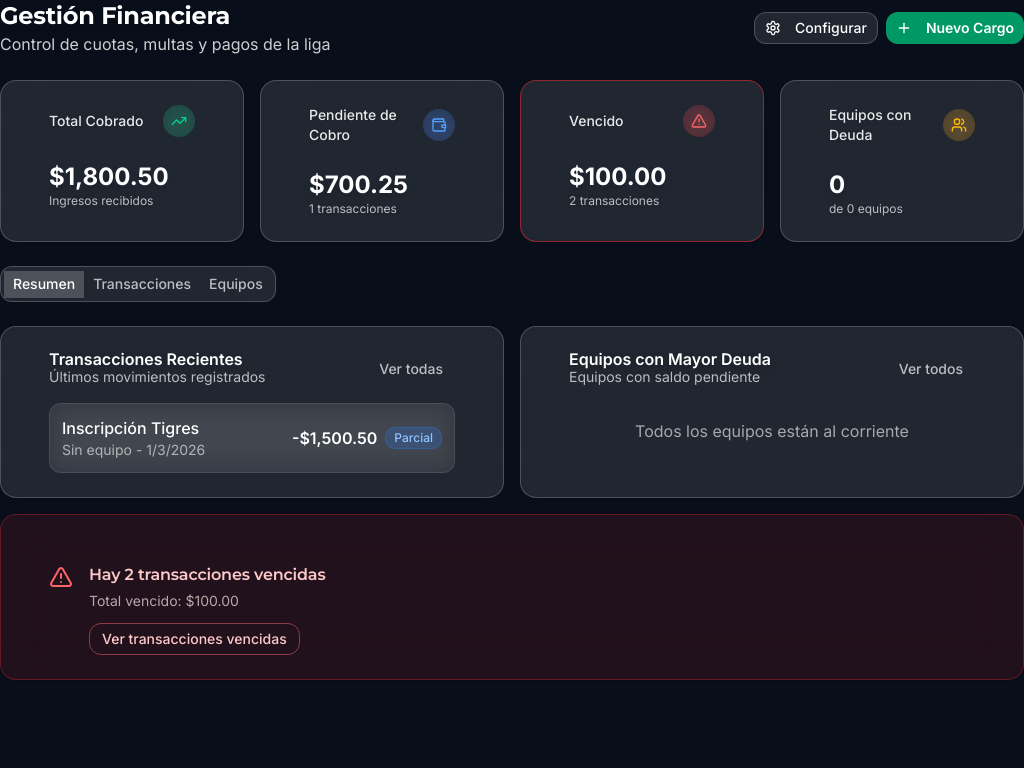
Test: Finance parity: payment dialog › never overpays: an amount above the pending balance is capped to it
Click the tab "Transacciones".
click(142, 284)  # box [84,270,200,298]
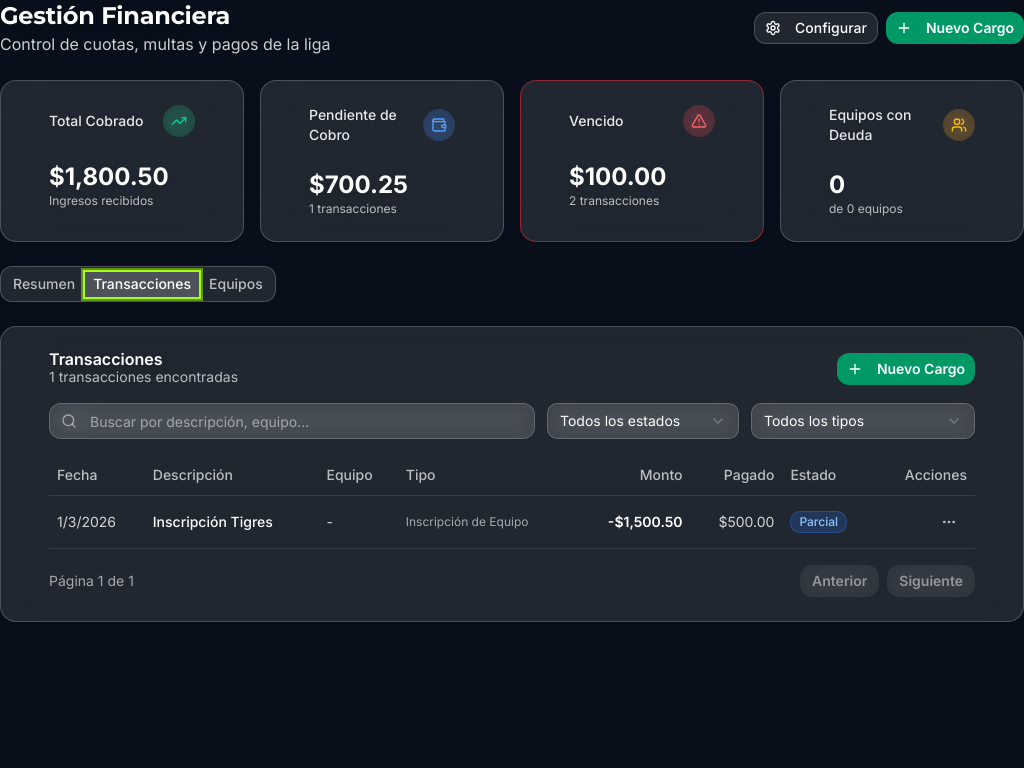
Click the button named "Acciones de Inscripción Tigres".
click(949, 522)  # box [931,504,967,540]
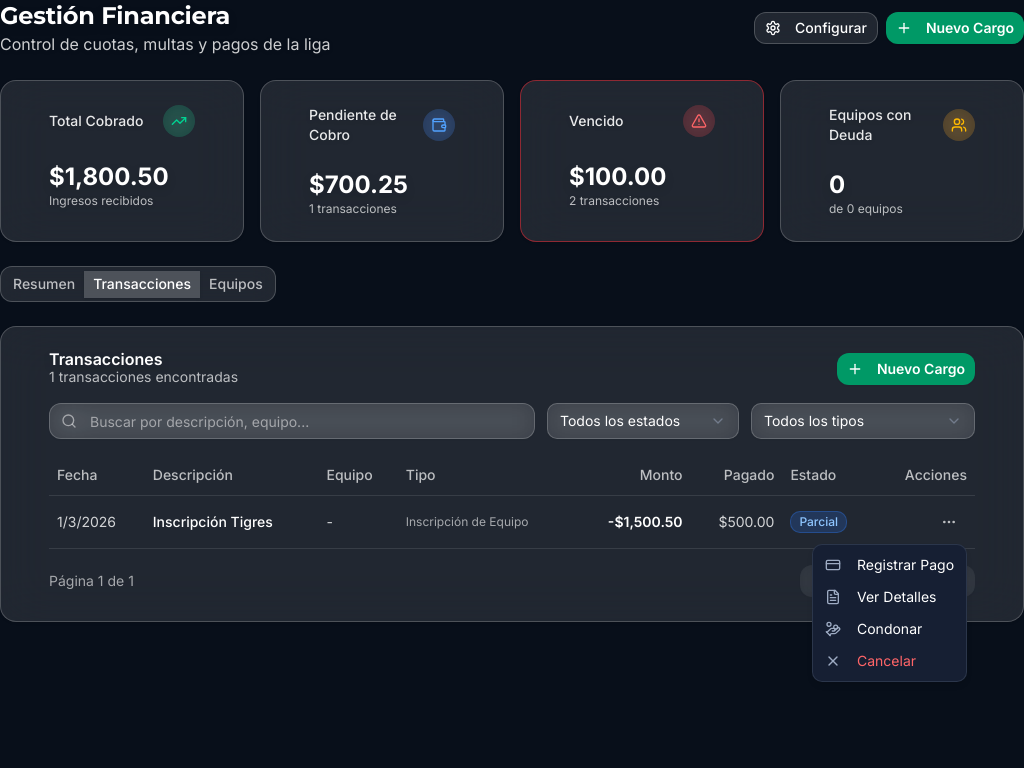
Click the menu item "Registrar Pago".
click(890, 564)  # box [825,556,954,573]
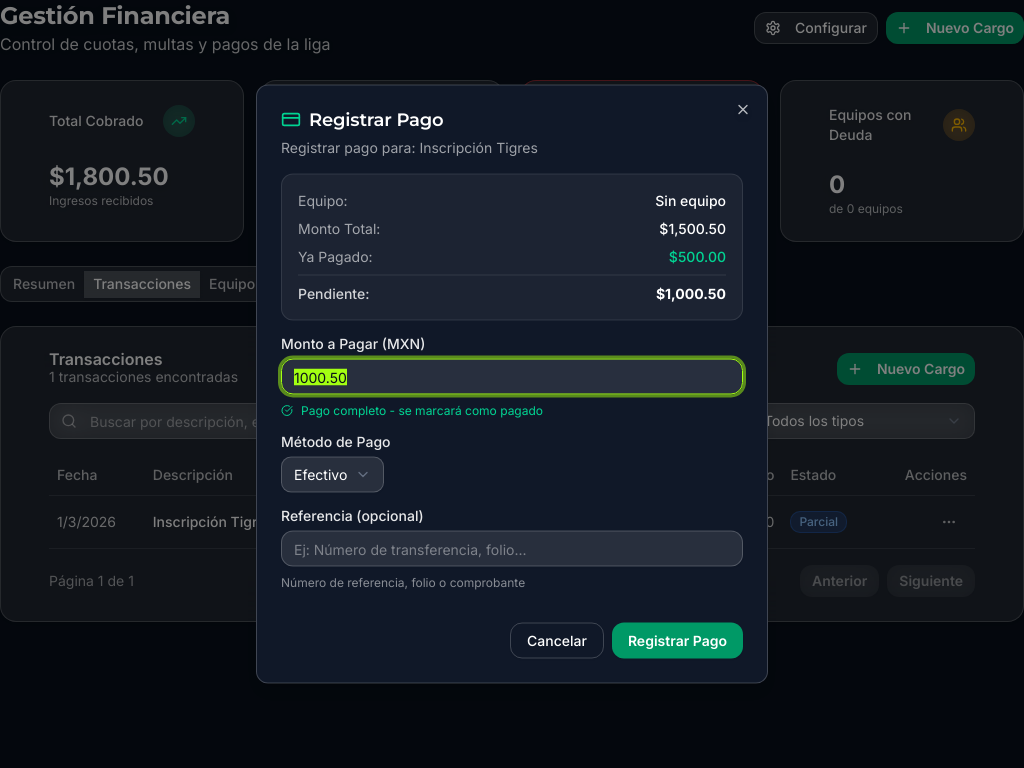
Clear the field labelled "Monto a Pagar (MXN)" at (512, 376), box [281,358,743,394]
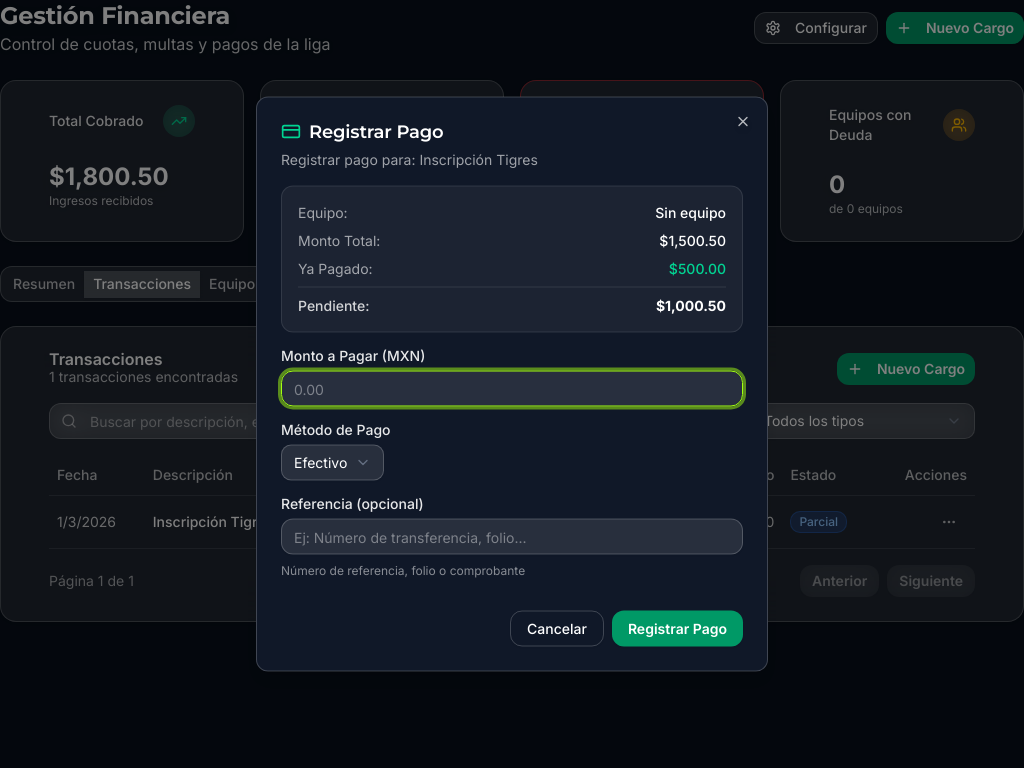
Type "5000" into the field labelled "Monto a Pagar (MXN)".
click(512, 388); type("5000")  # box [281,370,743,406]
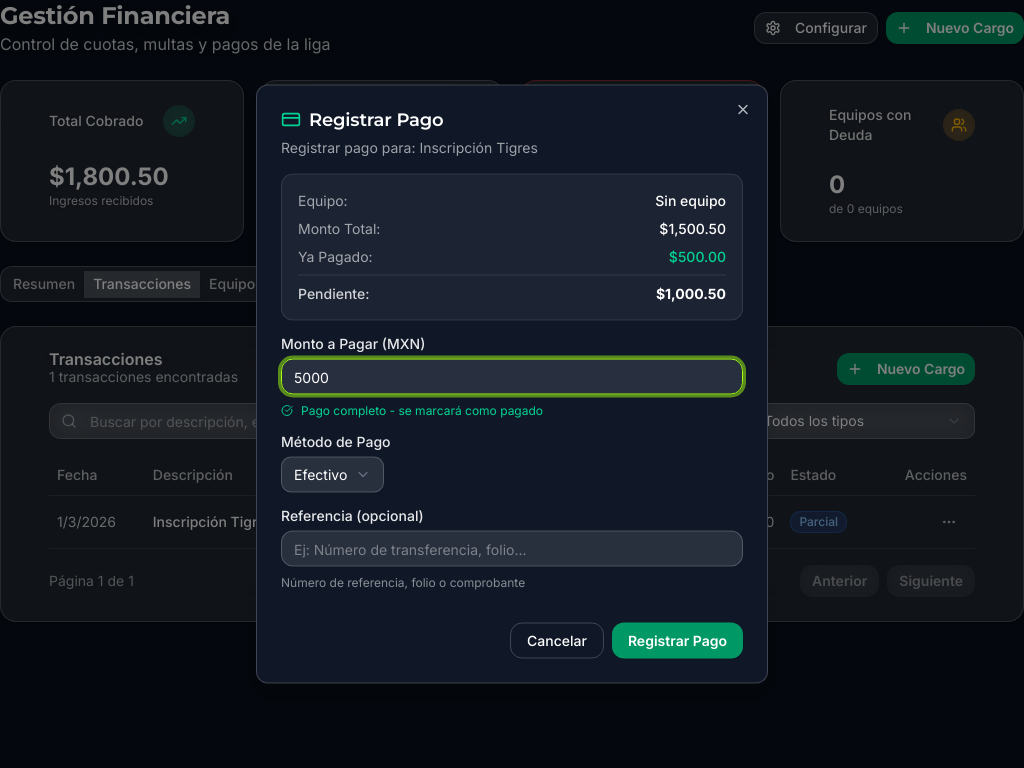
Click the button "Registrar Pago".
click(677, 640)  # box [612,622,743,658]
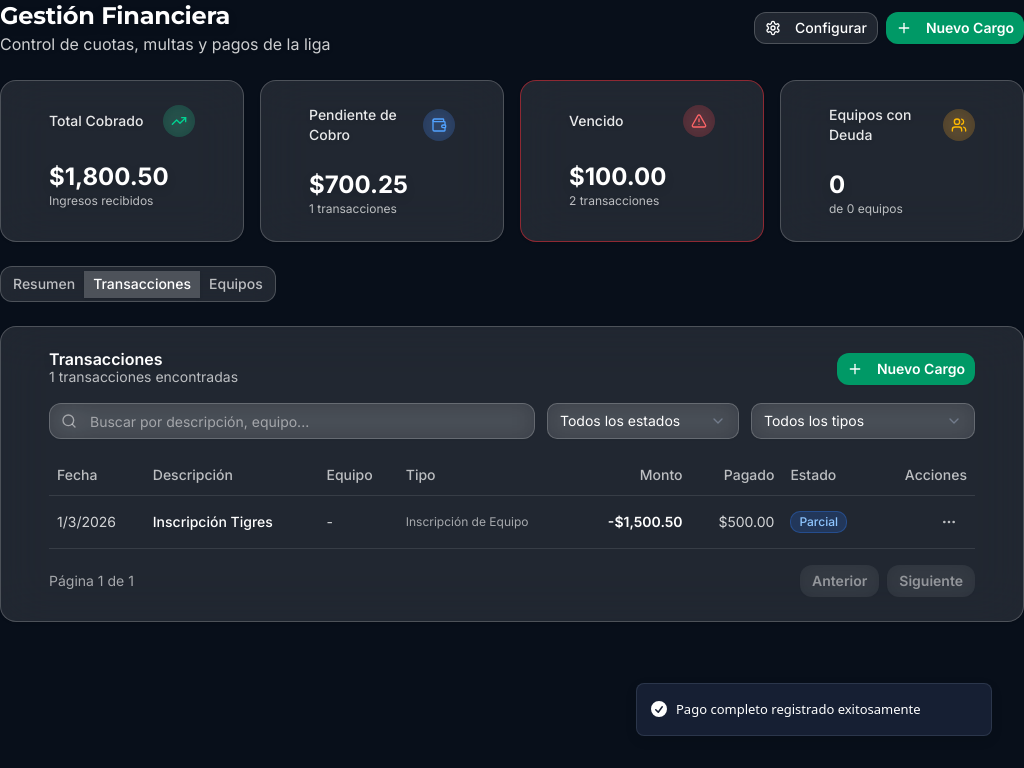
Result: the text "Pago completo registrado exitosamente" is shown at [676,700,921,719]
